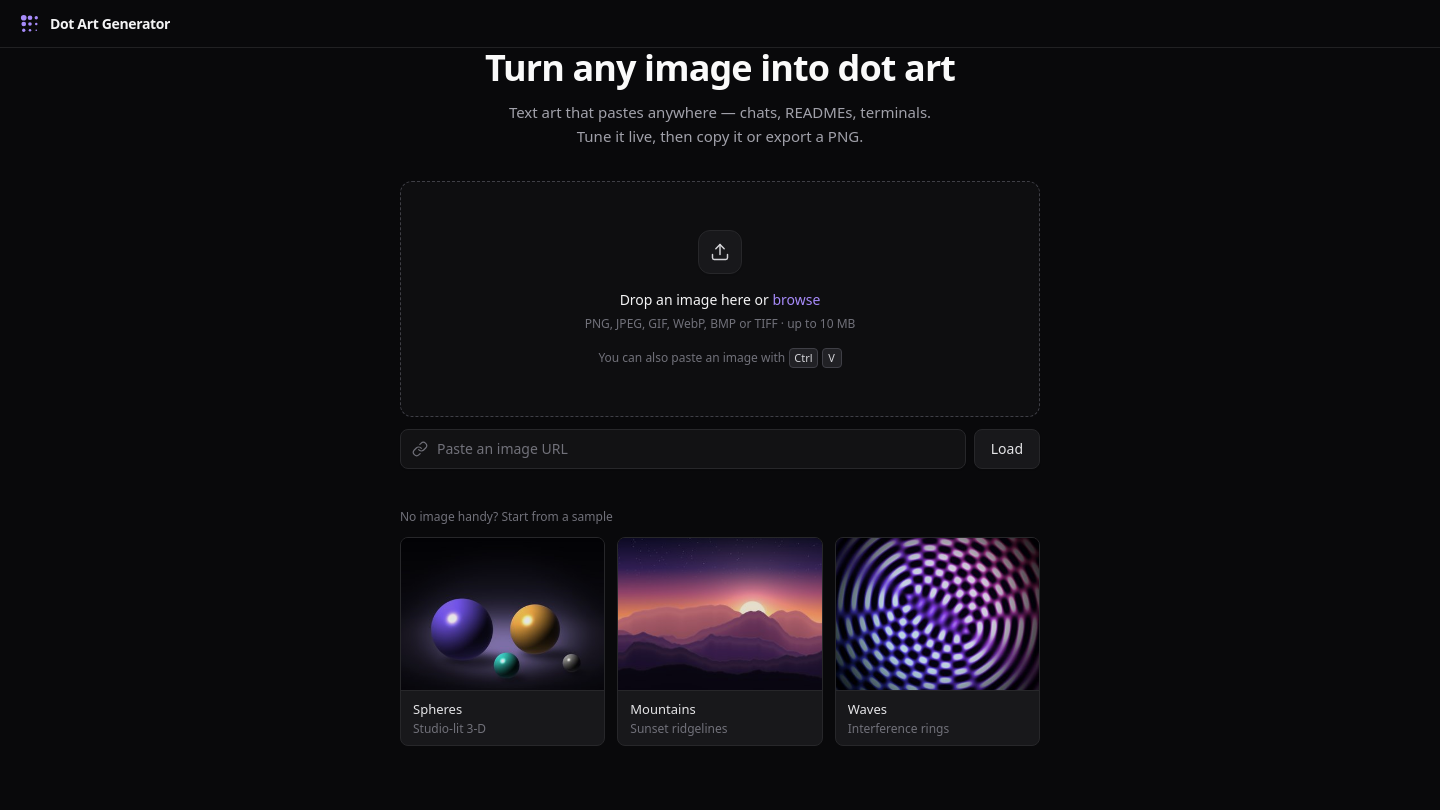
Test: generation › a sample is uploaded once and rendered with the default options
The width and height of the screenshot is (1440, 810).
(page scrolled)
Click the button "Spheres Studio-lit 3-D" at coordinates (503, 642), box [400,537,605,746]
(page scrolled)
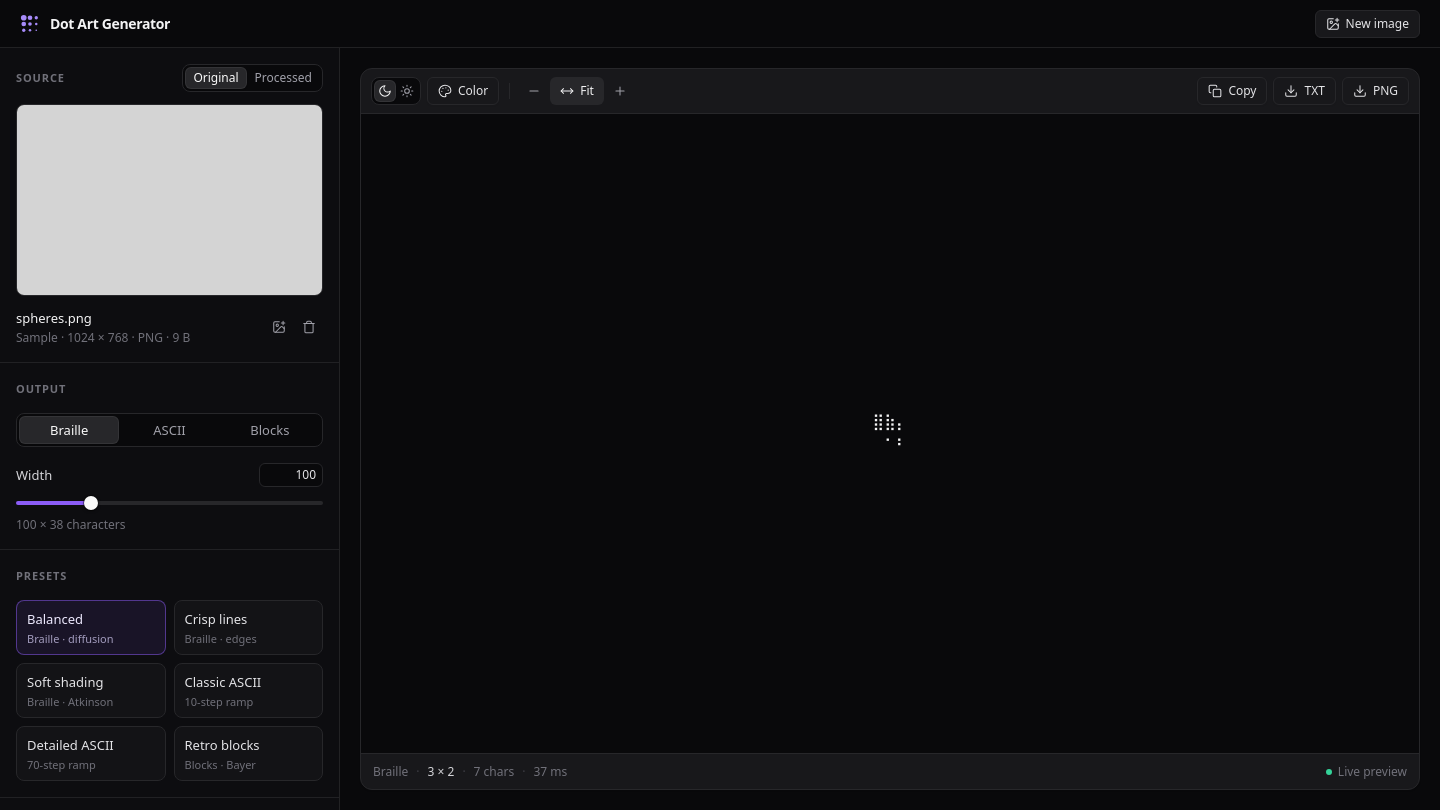
Expected: the text "spheres.png" is shown, [16,309,92,327]
Expected: the text "3 × 2" is shown, [428,764,454,780]
Expected: the text "37 ms" is shown, [533,764,567,780]
